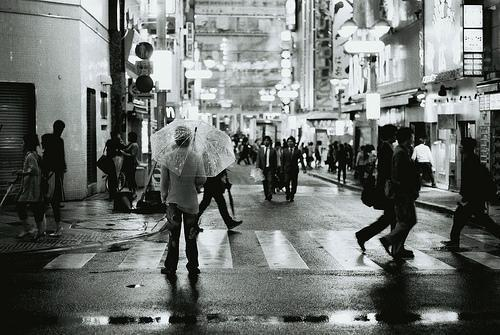bicycle: (105, 171, 127, 192)
